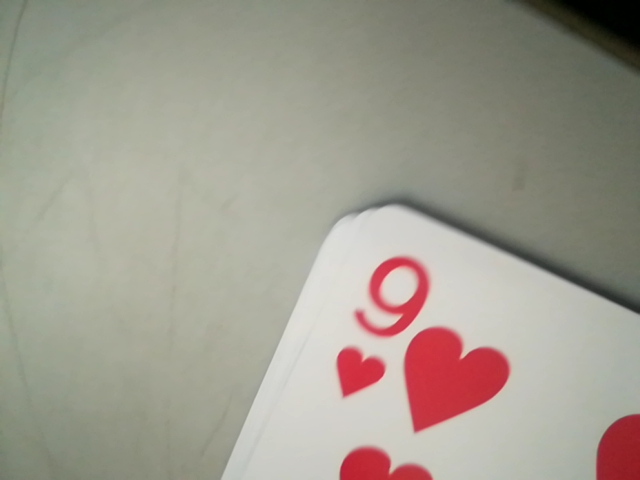hx 9: (333, 235, 431, 402)
